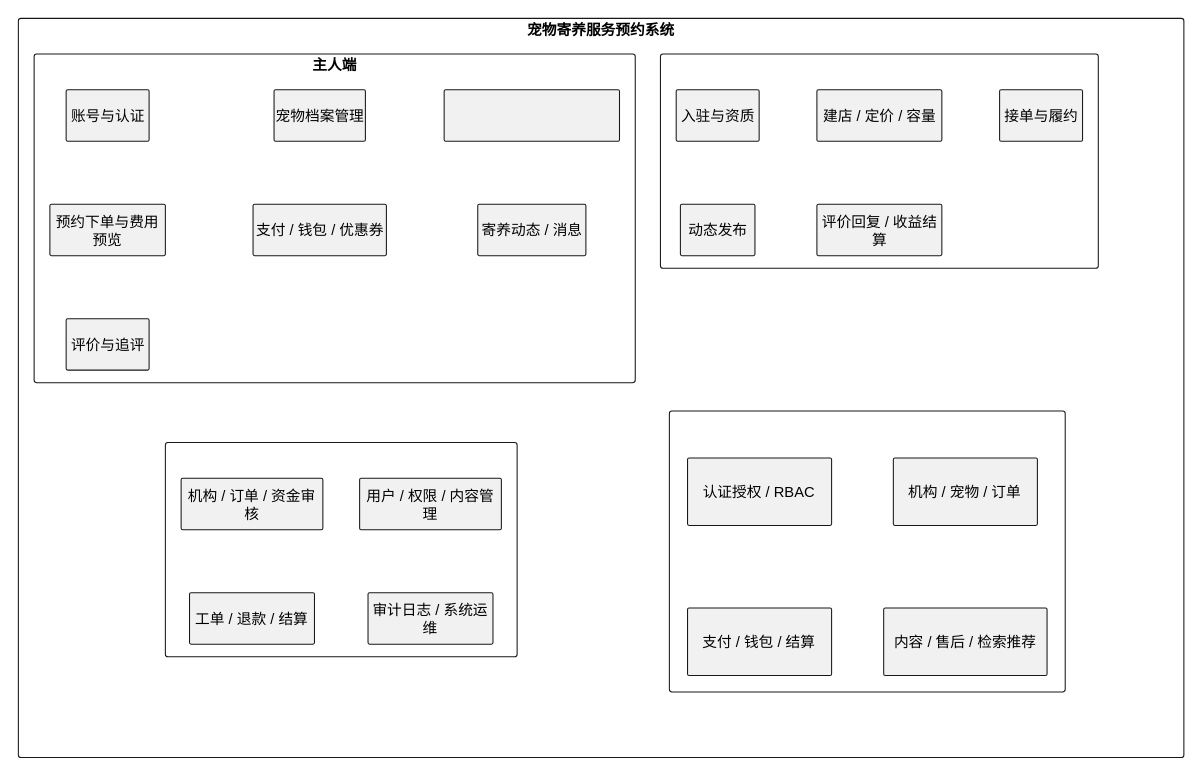
Some shapes in this 1202 by 776 pixel diagram are drawn without their labels. The box of each missing label's shape, as (x1, y1, x2, y2) in pixels:
后端服务: (668, 410, 1065, 692)
机构浏览 / 搜索 / 收藏 / 对比: (443, 89, 620, 141)
机构端: (659, 53, 1098, 268)
管理后台: (164, 442, 517, 657)
